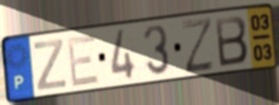3: (142, 24, 172, 78)
4: (109, 27, 138, 82)
B: (213, 14, 250, 69)
E: (65, 32, 101, 89)
Z: (179, 15, 216, 76), (32, 36, 68, 92)
